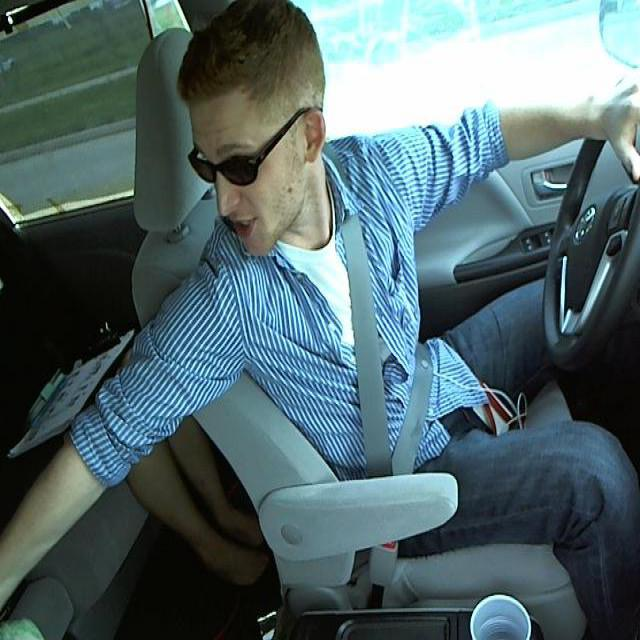seatbelt: (339, 236, 457, 503)
